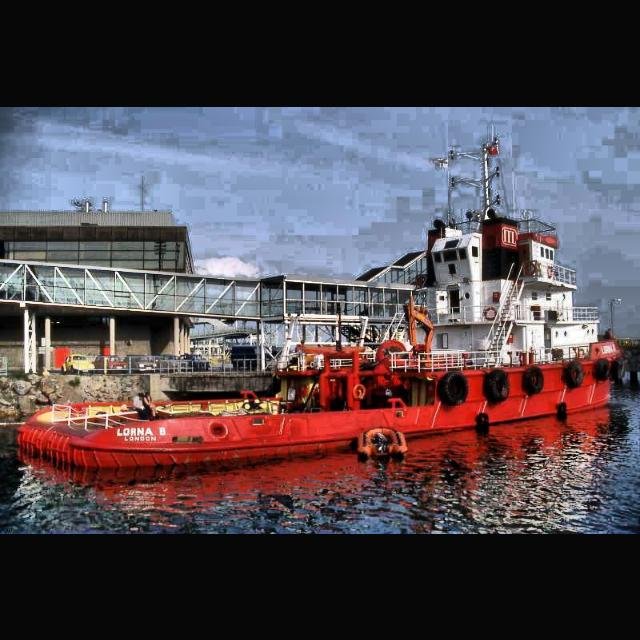tug: (18, 162, 624, 468)
